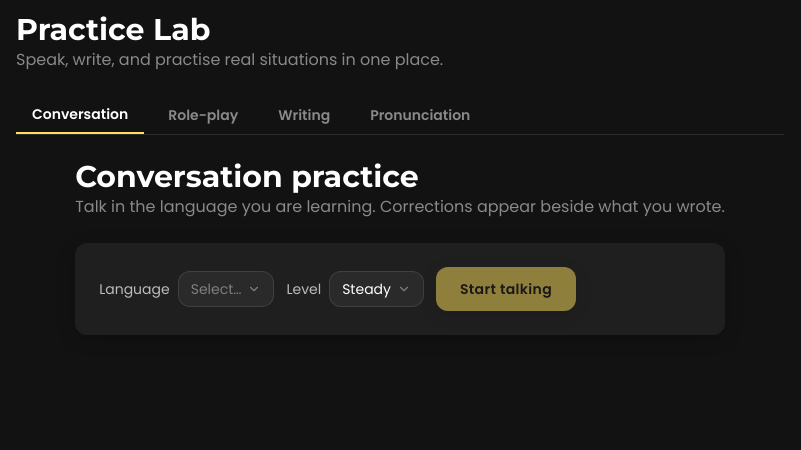
Scenario: PracticeLabPage › shows one mode at a time rather than hiding the others with CSS
Click the button "Writing" at [304, 115], box left=262, top=96, right=346, bottom=134
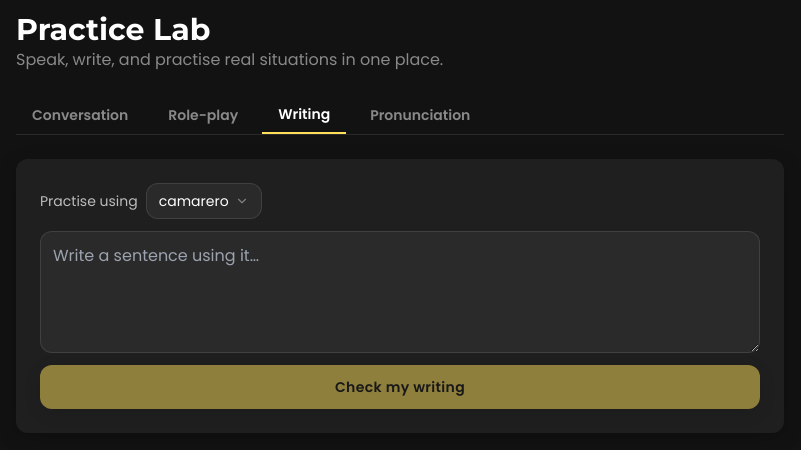
Now the text box named "Your sentence" is shown, box left=40, top=231, right=760, bottom=353
